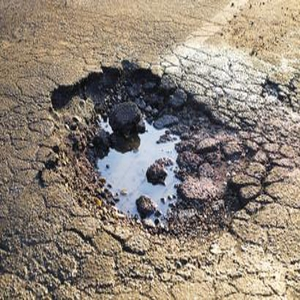pothole: (47, 56, 247, 244)
